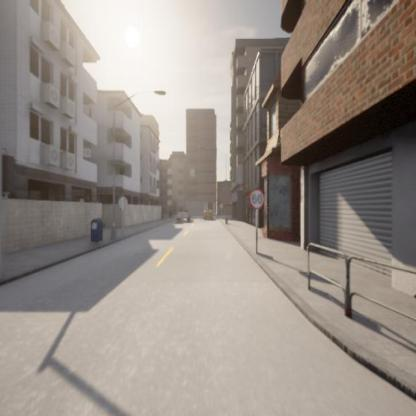traffic_sign_60: (249, 188, 265, 208)
